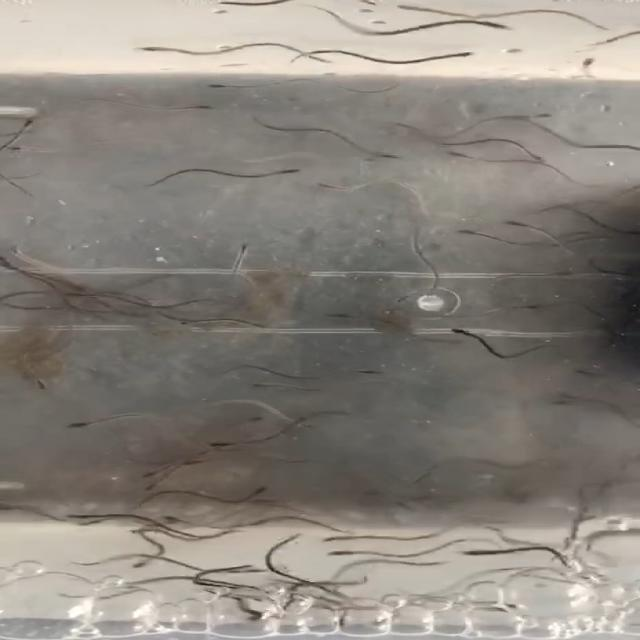active_glass_eel: (426, 37, 499, 73), (349, 139, 415, 174), (54, 409, 103, 443), (192, 67, 250, 95), (125, 468, 178, 498), (438, 211, 483, 244), (367, 0, 444, 19), (168, 94, 230, 116), (523, 134, 556, 174), (506, 106, 568, 127), (10, 104, 58, 131), (432, 142, 475, 172), (225, 234, 269, 262), (121, 37, 184, 56), (466, 13, 522, 34), (226, 312, 284, 332), (310, 183, 366, 201), (203, 430, 244, 454), (338, 359, 391, 377), (234, 478, 286, 496), (492, 210, 529, 235), (272, 156, 312, 179), (148, 508, 188, 526), (310, 532, 357, 546), (443, 546, 487, 560), (128, 549, 159, 568), (250, 374, 282, 391), (136, 461, 163, 476)
